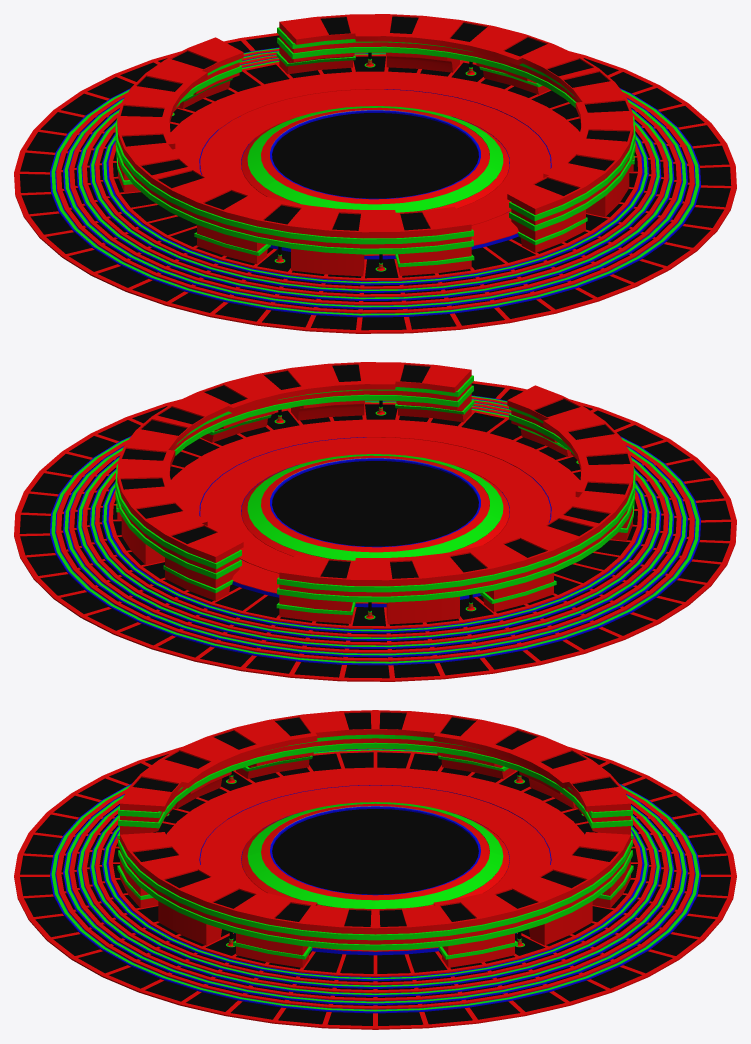
File: SM_altar.fbx
3 renders of one model, top to bottom at view 1: azimuth 30°, elevation 25°; view 2: azimuth 150°, elevation 25°; view 3: azimuth 270°, elevation 25°, orthographic.
Visible parts, largest first — view 1: wall_ring, step_a_1, inner_ring, step_a_6, outer_ring, middle_ring, step_a_2, step_a_3, step_b_2, step_a_4, step_b_3, step_a_5 (+3 smaller); view 2: wall_ring, step_a_1, inner_ring, step_a_6, outer_ring, middle_ring, step_a_2, step_a_3, step_b_2, step_a_4, step_b_3, step_a_5 (+3 smaller); view 3: wall_ring, step_a_1, inner_ring, step_a_6, outer_ring, middle_ring, step_a_2, step_a_3, step_b_2, step_a_4, step_b_3, step_a_5 (+3 smaller).
Part boxes in pixels (x1,y1,x2,y2): wall_ring: (115, 14, 635, 276); step_a_1: (14, 33, 736, 333); inner_ring: (241, 106, 509, 212); step_a_6: (108, 54, 642, 281); outer_ring: (171, 71, 579, 259); middle_ring: (200, 89, 550, 225); step_a_2: (56, 49, 694, 313); step_a_3: (69, 52, 681, 305); step_b_2: (50, 47, 700, 317); step_a_4: (82, 55, 668, 297); step_b_3: (63, 50, 687, 309); step_a_5: (95, 52, 655, 289); wall_ring: (115, 362, 635, 624); step_a_1: (14, 381, 736, 681); inner_ring: (241, 454, 509, 560); step_a_6: (108, 402, 642, 629); outer_ring: (171, 419, 579, 607); middle_ring: (200, 437, 550, 573); step_a_2: (56, 397, 694, 661); step_a_3: (69, 400, 681, 653); step_b_2: (50, 395, 700, 665); step_a_4: (82, 403, 668, 645); step_b_3: (63, 398, 687, 657); step_a_5: (95, 400, 655, 637); wall_ring: (117, 710, 633, 967); step_a_1: (14, 747, 736, 1029); inner_ring: (241, 802, 509, 908); step_a_6: (108, 750, 642, 977); outer_ring: (166, 767, 584, 955); middle_ring: (200, 785, 550, 892); step_a_2: (56, 789, 694, 1009); step_a_3: (69, 798, 681, 1001); step_b_2: (50, 783, 700, 1013); step_a_4: (82, 809, 668, 993); step_b_3: (63, 794, 687, 1005); step_a_5: (95, 748, 655, 985).
Size of the model in its own units: 11102 by 1153 by 11102.
